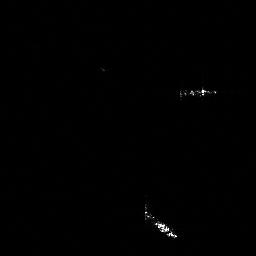ship: (144, 208, 179, 238), (179, 89, 217, 97)
